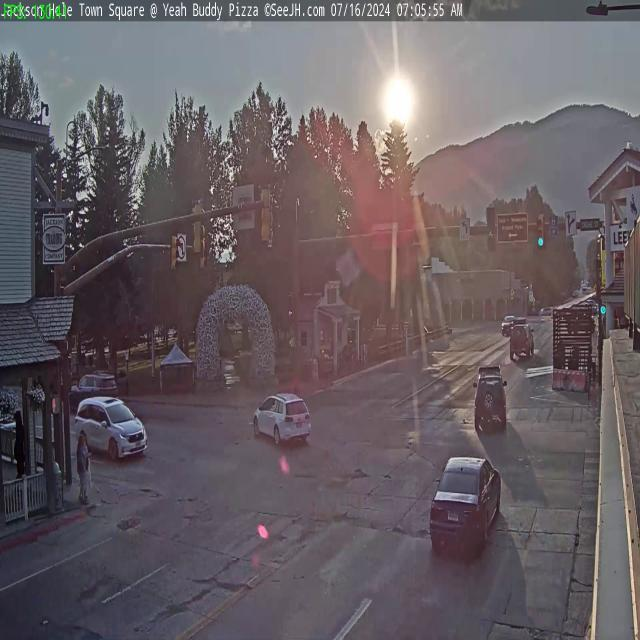person: (77, 430, 89, 512)
sedan: (428, 454, 506, 559)
suv: (74, 393, 148, 464), (250, 390, 310, 448), (473, 365, 509, 428), (508, 322, 532, 362)
traffic light: (260, 184, 274, 244), (190, 200, 203, 256), (170, 233, 180, 273), (487, 207, 496, 250), (536, 214, 546, 248)
